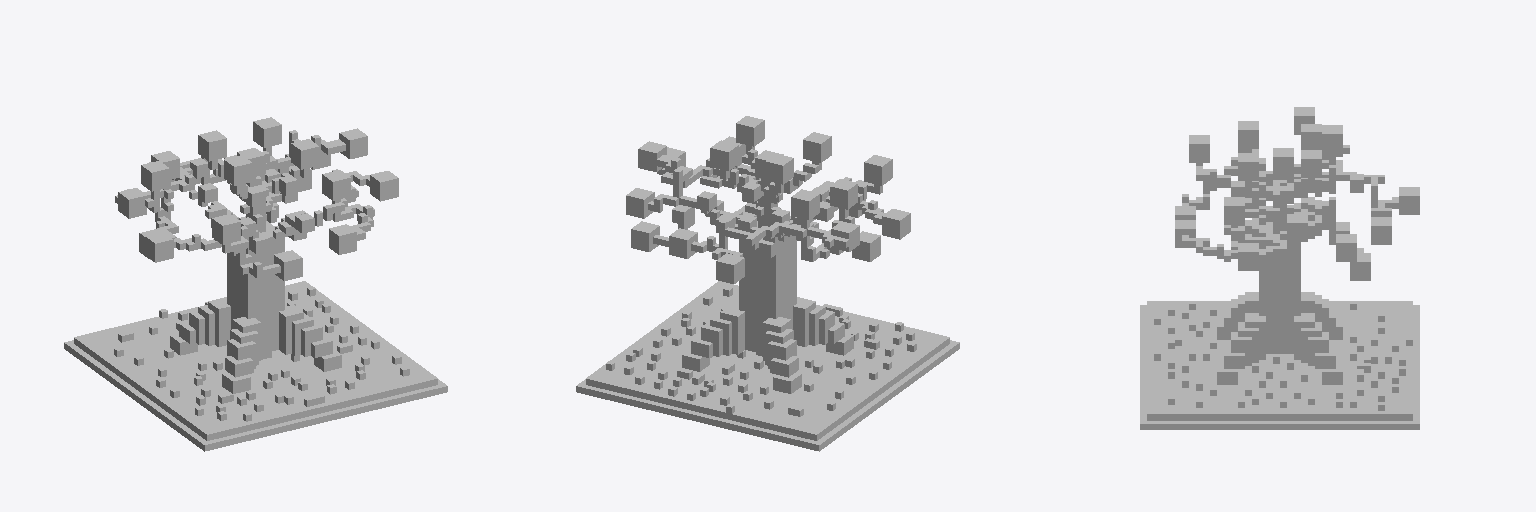
File: arbol.obj
The picture shows the model from 3 angles: view 1: azimuth 30°, elevation 25°; view 2: azimuth 150°, elevation 25°; view 3: azimuth 270°, elevation 25°; orthographic projection.
Parts seen in each view (by area): view 1: object 1; view 2: object 1; view 3: object 1.
Boxes of the visible parts, x1=… form: object 1: x1=64, y1=117, x2=447, y2=451; object 1: x1=576, y1=116, x2=959, y2=451; object 1: x1=1140, y1=107, x2=1419, y2=429.
Bounding box in the file's own units: 4 × 3.6 × 4.